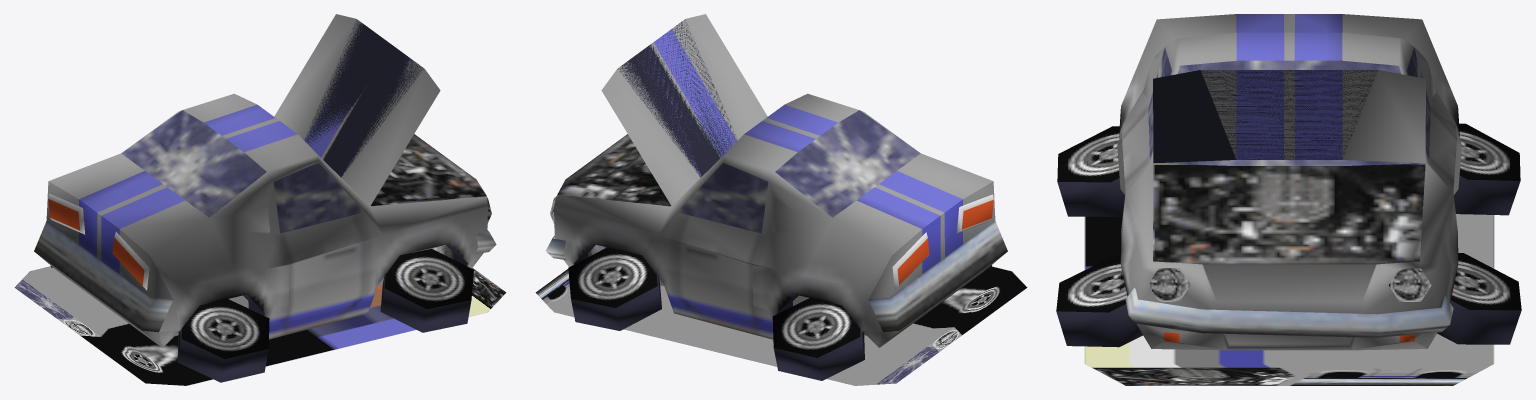
Rendered from RUN3SYSD.ICN.obj.
3 views of the same model, side by side, from view 1: azimuth 30°, elevation 25°; view 2: azimuth 150°, elevation 25°; view 3: azimuth 270°, elevation 25° (orthographic). The views are drawn at different scales.
Bounding box in the file's own units: 4.7 × 2.66 × 3.98.
Materials: 1 (1 with a texture image).
